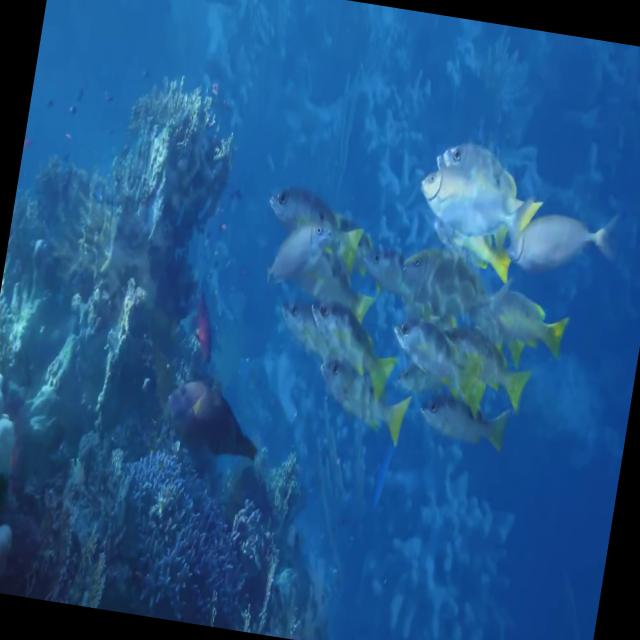fish: (298, 286, 400, 396), (414, 158, 545, 236), (382, 318, 488, 412), (504, 204, 624, 286), (468, 276, 574, 366), (413, 384, 515, 460), (260, 211, 338, 298)
